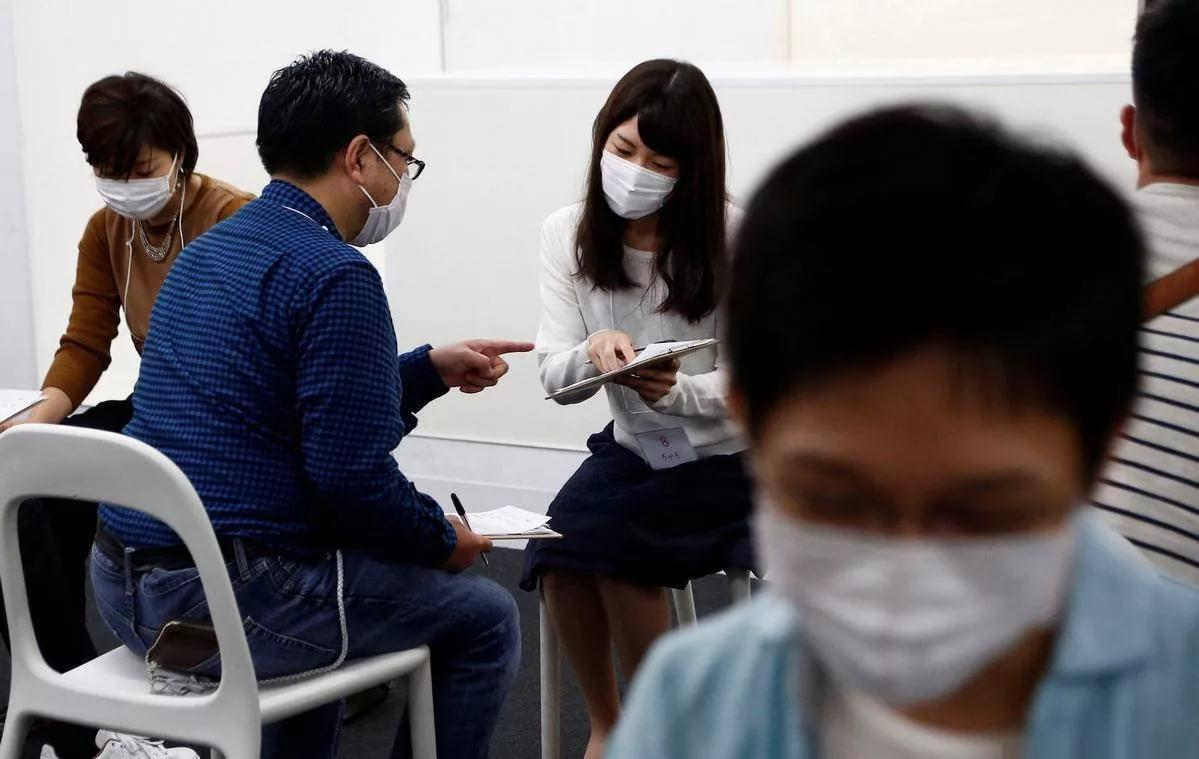mask: (758, 334, 1085, 707), (588, 104, 698, 222), (352, 108, 427, 248), (98, 134, 180, 220)
